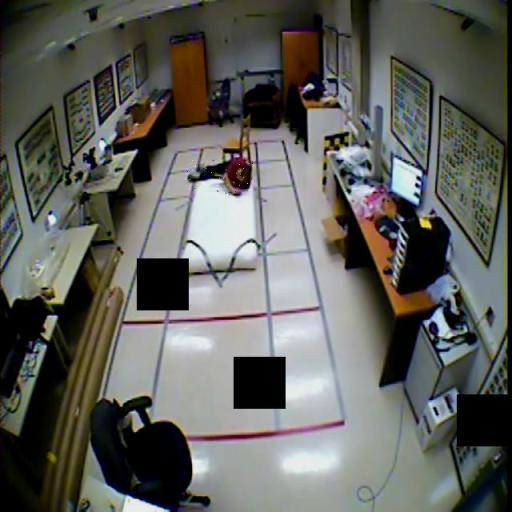Fall: (187, 157, 254, 195)
